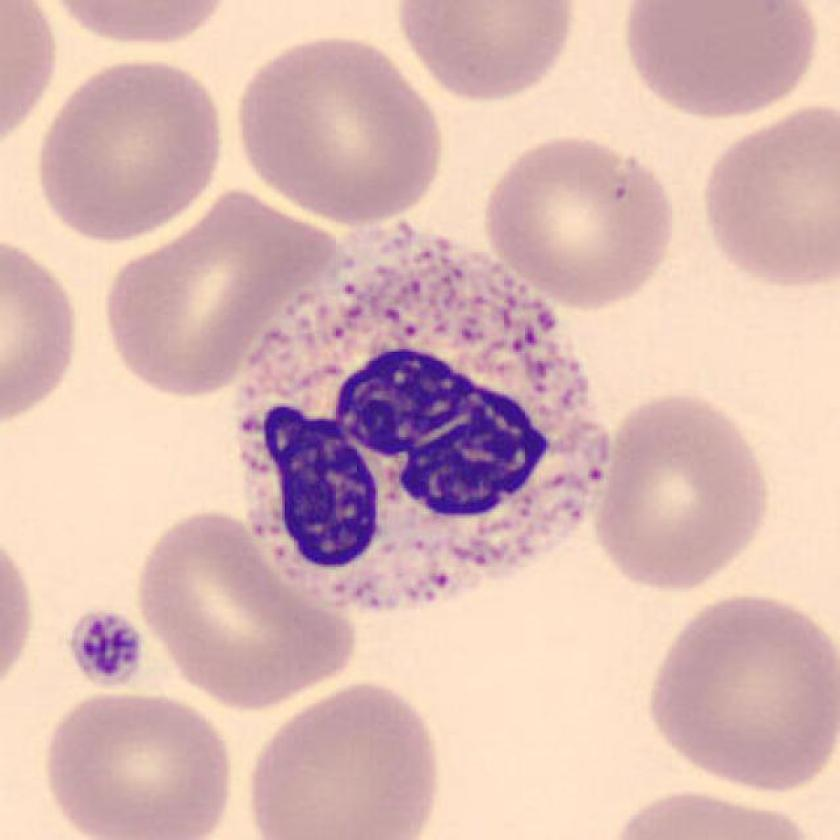neutrophil: (235, 226, 610, 612)
